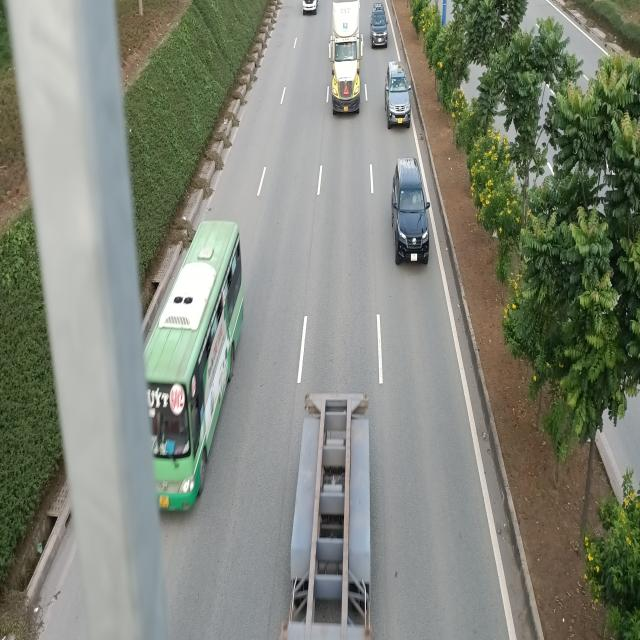car: (393, 157, 433, 265), (382, 62, 410, 128), (369, 0, 388, 47)
coach: (139, 223, 240, 516)
container: (282, 343, 373, 636), (329, 2, 364, 115)
